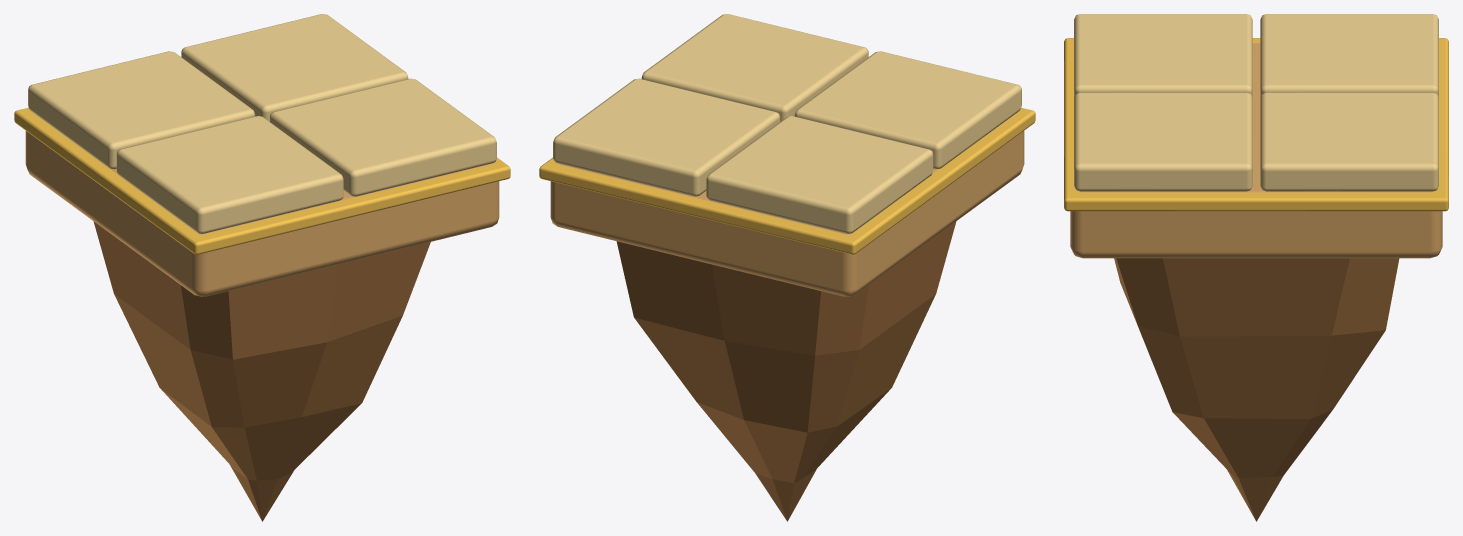
Rendered from PLAT_Ruin_S.glb.
3 views of the same model, side by side, from view 1: azimuth 30°, elevation 25°; view 2: azimuth 150°, elevation 25°; view 3: azimuth 270°, elevation 25° (orthographic). The views are drawn at different scales.
Visible parts, largest first — view 1: Tiles, Underside, Slab, Trim; view 2: Tiles, Underside, Slab, Trim; view 3: Tiles, Underside, Slab, Trim.
Part boxes in pixels (x1,y1,x2,y2): Tiles: [28, 14, 496, 233]; Underside: [93, 221, 430, 521]; Slab: [25, 131, 499, 296]; Trim: [14, 107, 510, 254]; Tiles: [553, 14, 1021, 233]; Underside: [616, 221, 956, 521]; Slab: [550, 131, 1024, 296]; Trim: [539, 107, 1035, 254]; Tiles: [1074, 14, 1438, 191]; Underside: [1114, 258, 1399, 521]; Slab: [1070, 43, 1442, 258]; Trim: [1064, 38, 1448, 211].
Bounding box in the file's own units: 3.1 × 3.85 × 3.1.
